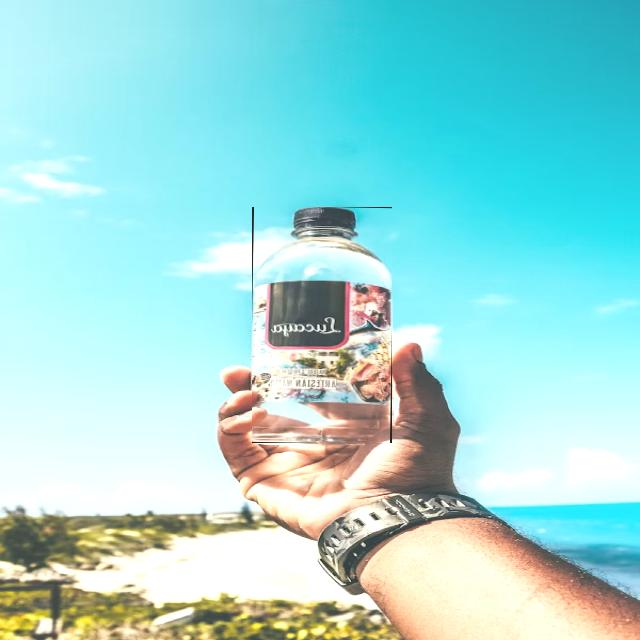Bottle: (251, 208, 391, 443)
